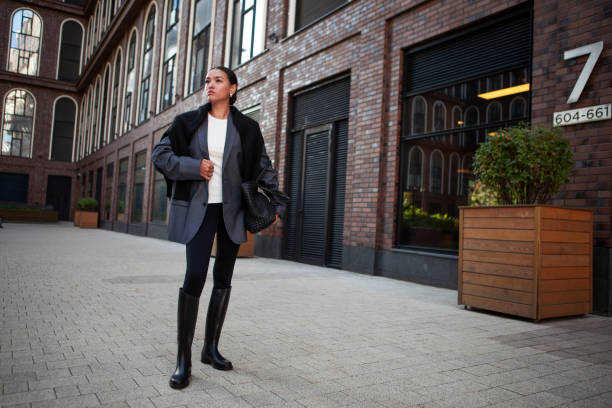person: (154, 64, 289, 388)
